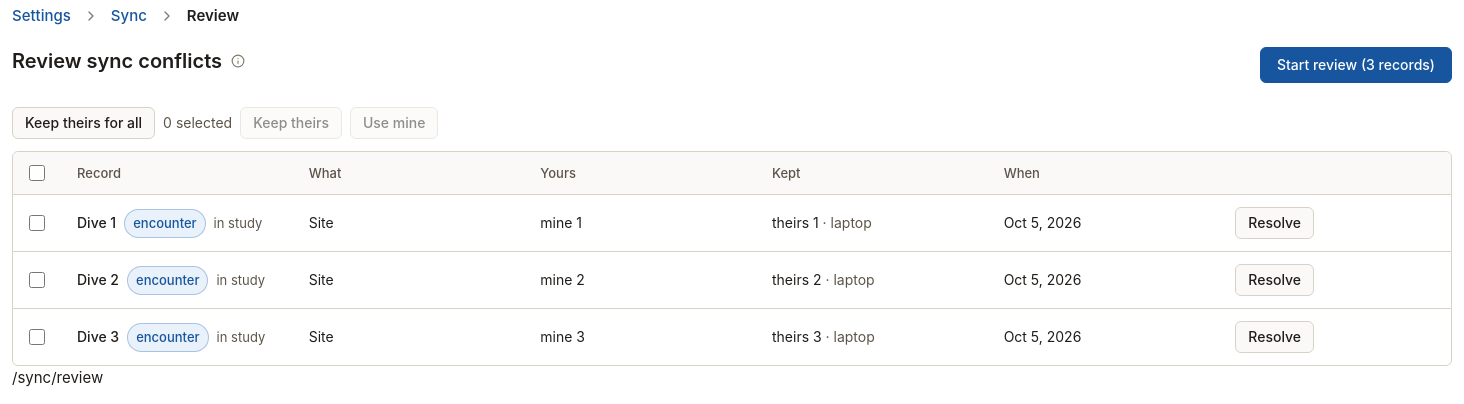
Test case: SyncReviewPage › starts a review at the first record, and remembers the order for the stepper
Step 1. Click the button "Start review (3 records)" → (1356, 65), box [1260,47,1452,83]
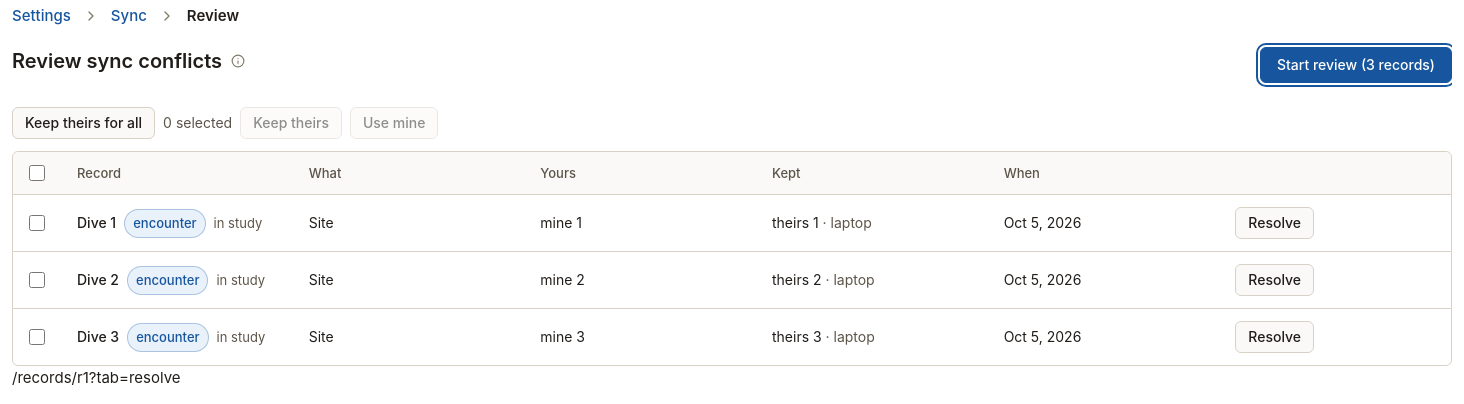
expect the text named "where" reads "/records/r1?tab=resolve": met, box [12,368,181,387]
